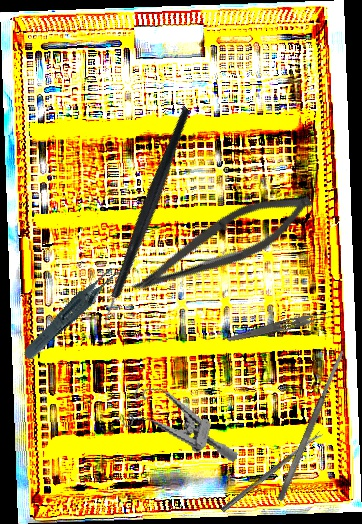Chopper: (37, 105, 260, 340)
Dressing Forceps: (226, 306, 337, 348)
Micro Scissor: (123, 173, 321, 318)
Spatula Surgical: (275, 348, 348, 503)
Speculum: (113, 378, 249, 464)
Surgical Spoon: (220, 430, 324, 514)
Tissue Forceps: (8, 261, 143, 363)
